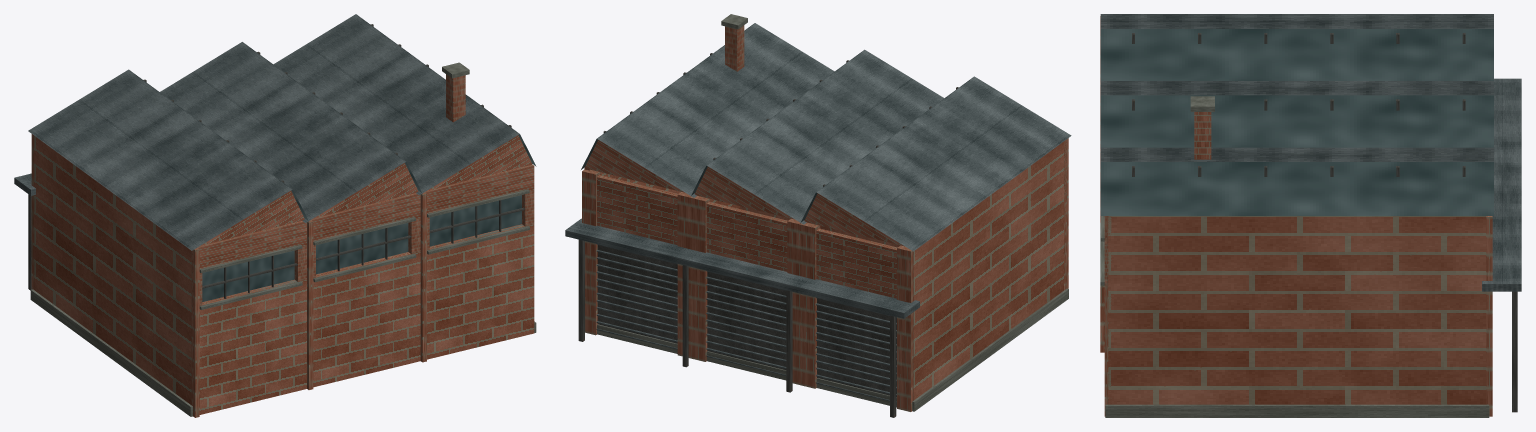
The model's file is industrial_warehouse.gltf.
3 views of the same model, side by side, from view 1: azimuth 30°, elevation 25°; view 2: azimuth 150°, elevation 25°; view 3: azimuth 270°, elevation 25° (orthographic). The views are drawn at different scales.
Visible parts, largest first — view 1: industrial_warehouse; view 2: industrial_warehouse; view 3: industrial_warehouse.
Part boxes in pixels (box(x1,y1,x2,y2)): industrial_warehouse: box(14, 14, 536, 417); industrial_warehouse: box(565, 14, 1071, 417); industrial_warehouse: box(1100, 14, 1521, 417).
Bounding box in the file's own units: 15.45 × 10.27 × 13.39.
Materials: 1 (1 with a texture image).
